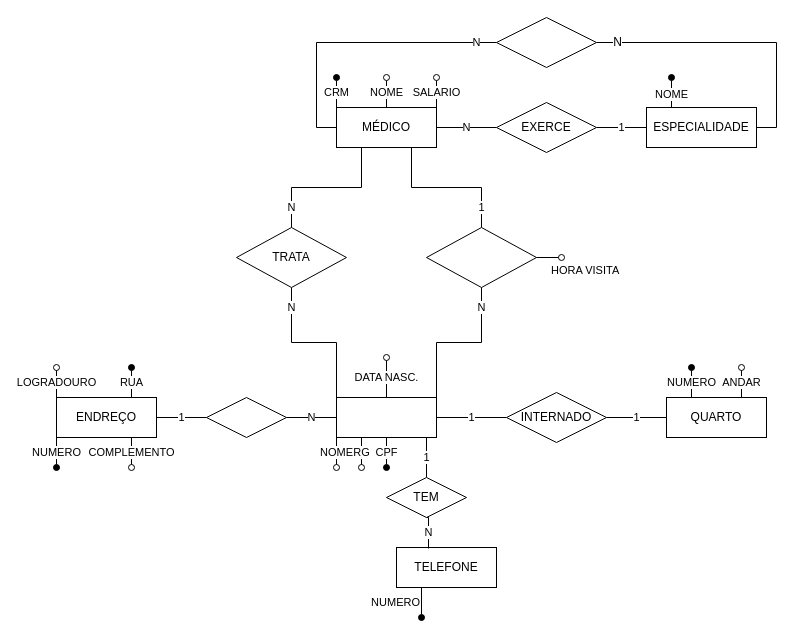
Some shapes in this 795 by 643 pixel diagram are drawn without their labels. The centre of each missing label's shape, as x and y in pixels:
"FORMAÇÃO" belongs at [546,42].
"MORA" belongs at [246,417].
"PACIENTE" belongs at [386,417].
"RESPONSAVEL" belongs at [481,257].
